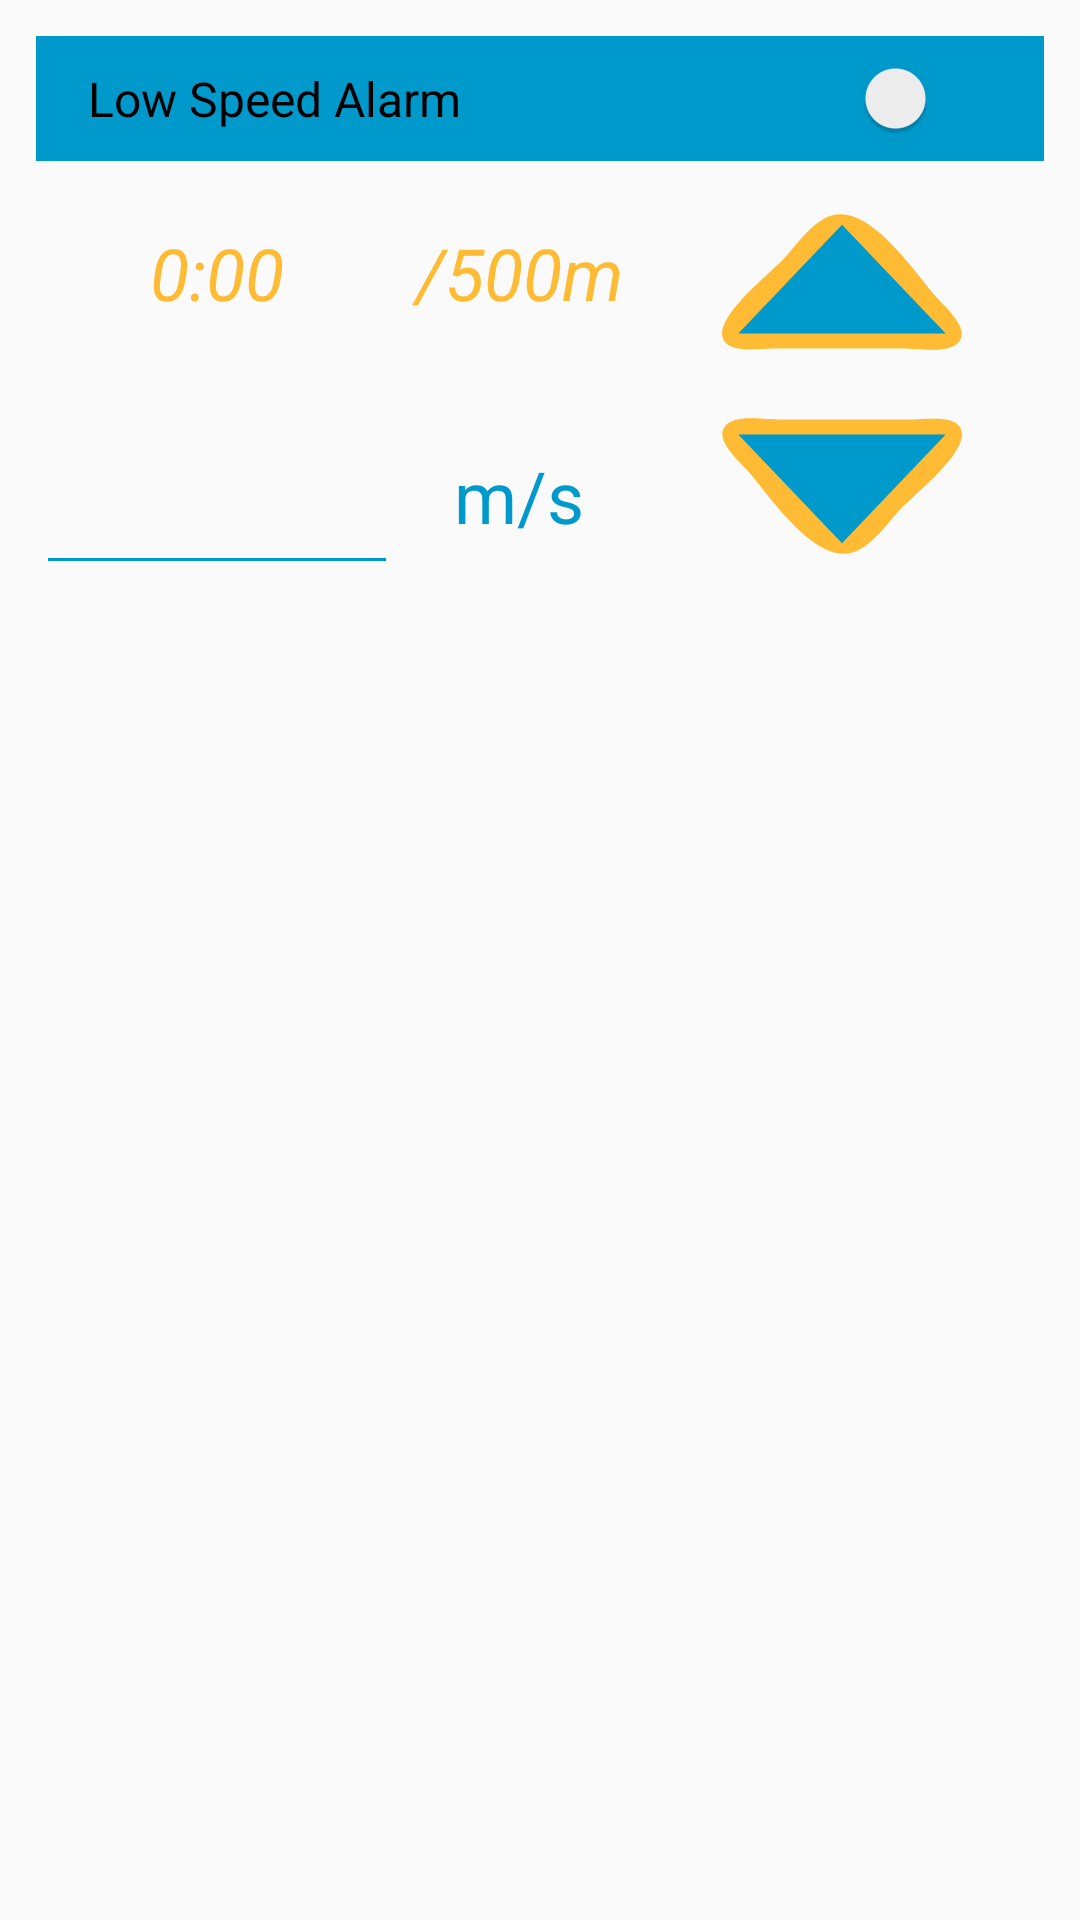

Icon click points for this 1080×1920 phone screenshot, format (x,y):
up: (842,282)
